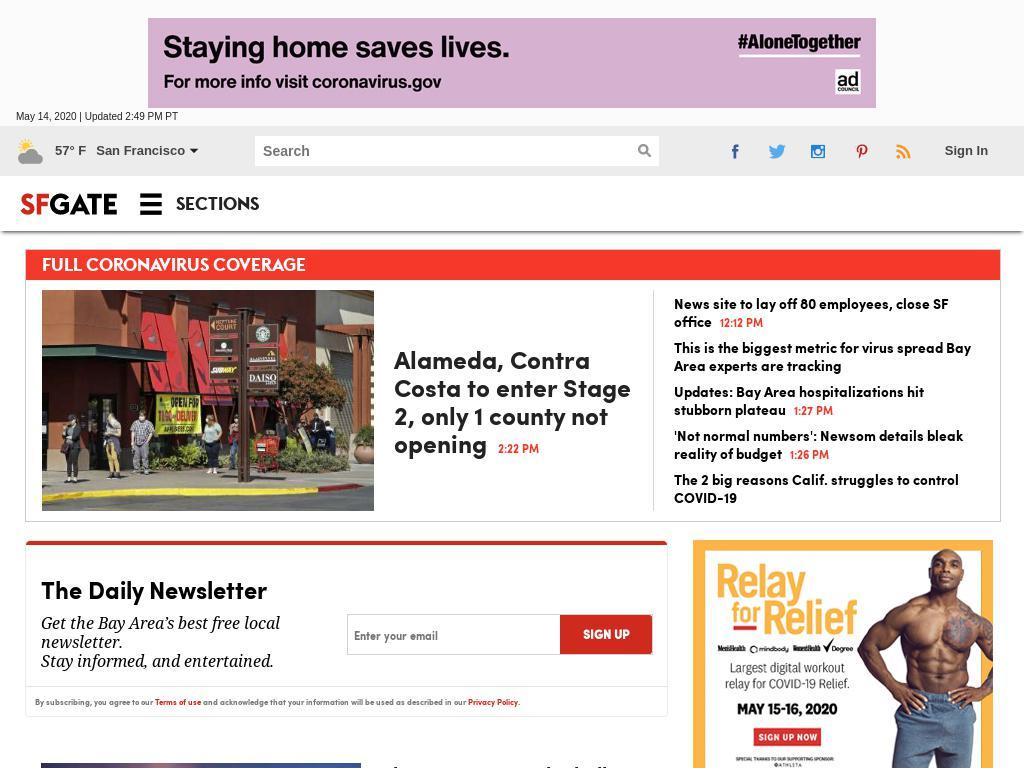button: (42, 290, 394, 512), (121, 176, 274, 231), (559, 615, 652, 655), (714, 130, 756, 172), (756, 130, 798, 172), (840, 130, 882, 172), (882, 130, 924, 172), (798, 130, 839, 172), (361, 763, 362, 764)
field: (263, 138, 625, 164), (347, 615, 558, 654), (637, 143, 652, 158)
heading: (41, 575, 668, 605), (82, 253, 306, 276), (42, 253, 82, 276)
iframe: (692, 540, 993, 768), (148, 18, 876, 108)
image: (42, 290, 374, 512), (26, 541, 668, 546), (15, 191, 121, 216), (41, 763, 362, 768), (17, 138, 43, 164), (768, 143, 786, 159), (895, 143, 911, 159), (811, 143, 826, 159), (854, 143, 868, 159), (731, 143, 739, 159)
link: (394, 340, 631, 461), (674, 337, 972, 375), (674, 425, 964, 463), (674, 469, 960, 507), (674, 293, 950, 331), (674, 381, 925, 419), (377, 760, 652, 768), (468, 696, 518, 708), (155, 696, 201, 708)
text: (41, 612, 280, 654), (41, 650, 274, 673), (96, 126, 196, 176), (720, 315, 791, 363), (794, 403, 865, 451), (790, 447, 861, 495), (201, 696, 468, 708), (16, 108, 179, 126), (176, 188, 259, 219), (498, 440, 539, 489), (35, 696, 155, 708), (55, 136, 87, 166), (136, 188, 166, 219), (944, 143, 988, 158)
